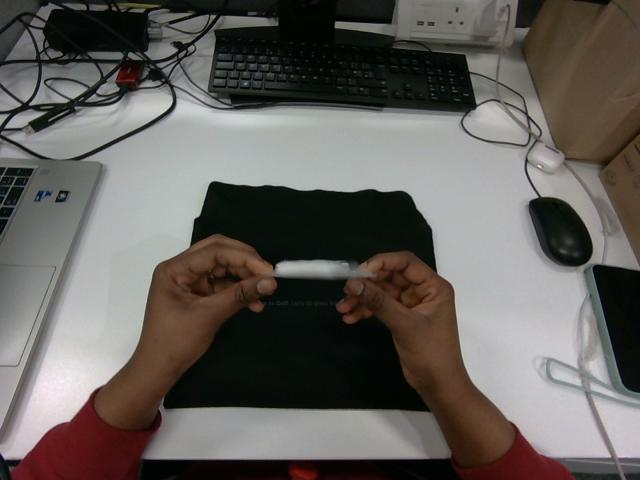gauze: (271, 260, 373, 279)
